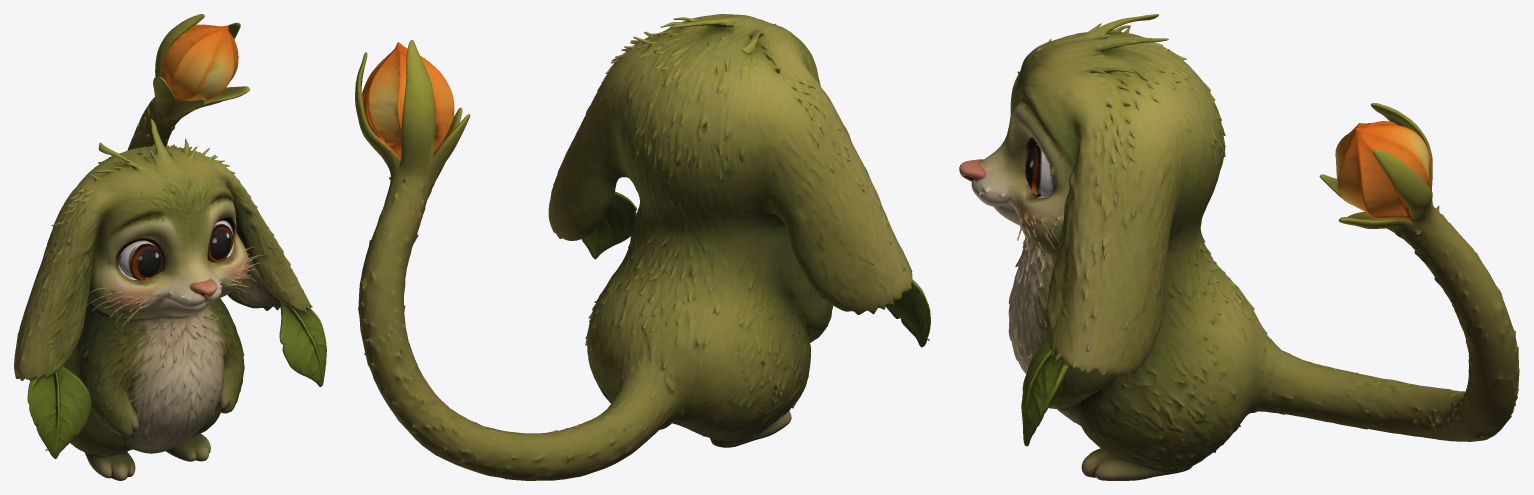
The model's file is char-mossbun-3d.glb.
3 views of the same model, side by side, from view 1: azimuth 30°, elevation 25°; view 2: azimuth 150°, elevation 25°; view 3: azimuth 270°, elevation 25° (orthographic). The views are drawn at different scales.
Parts seen in each view (by area): view 1: tripo_node_7c2b6e73-b6b8-4153-b42a-7c84c410ea72; view 2: tripo_node_7c2b6e73-b6b8-4153-b42a-7c84c410ea72; view 3: tripo_node_7c2b6e73-b6b8-4153-b42a-7c84c410ea72.
Boxes of the visible parts, box(x1,y1,x2,y2) form: tripo_node_7c2b6e73-b6b8-4153-b42a-7c84c410ea72: box(14, 14, 326, 480); tripo_node_7c2b6e73-b6b8-4153-b42a-7c84c410ea72: box(355, 14, 930, 480); tripo_node_7c2b6e73-b6b8-4153-b42a-7c84c410ea72: box(959, 14, 1519, 480).
Size of the model in its own units: 0.2581 by 0.2499 by 0.2873.
Materials: 1 (1 with a texture image).
